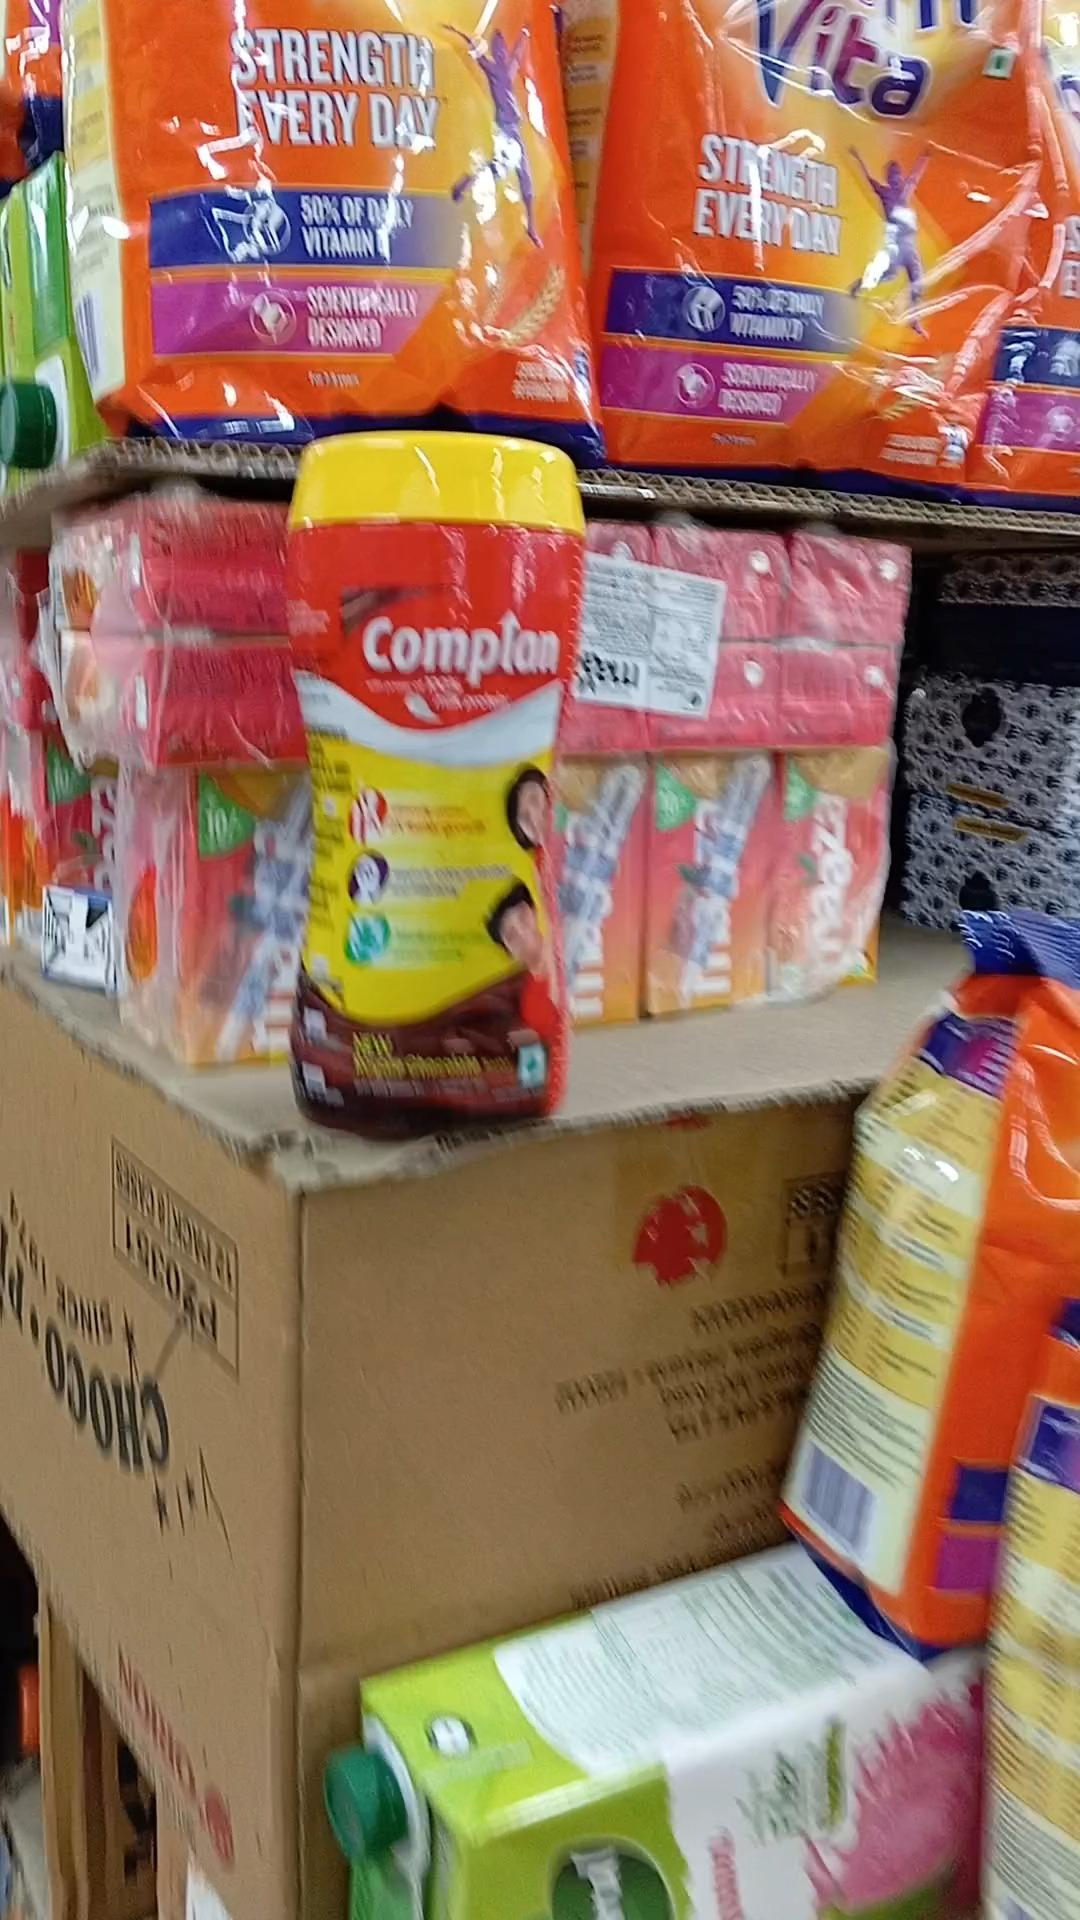COMPLAN_CHOCOLATE_200_GMS_JAR: (295, 427, 555, 1122)
